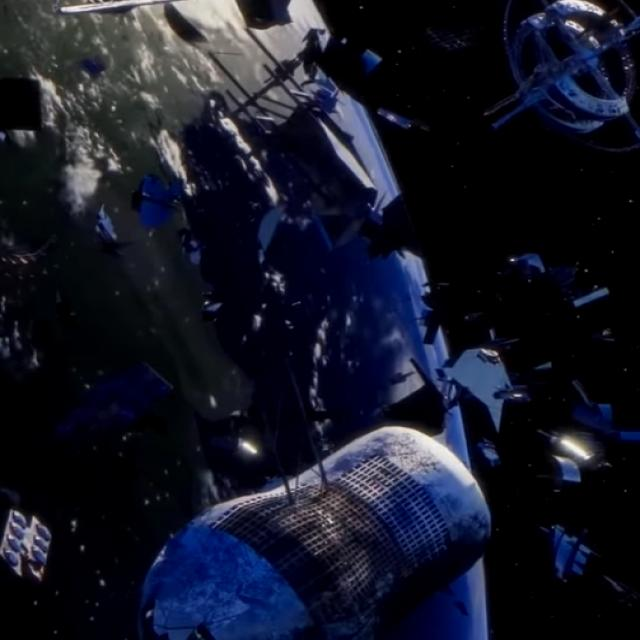large_debris: (134, 408, 509, 640), (193, 19, 450, 268), (465, 0, 637, 162), (424, 326, 564, 441), (538, 373, 640, 490), (486, 236, 621, 314), (523, 512, 616, 609), (121, 154, 203, 244), (0, 502, 70, 604)
